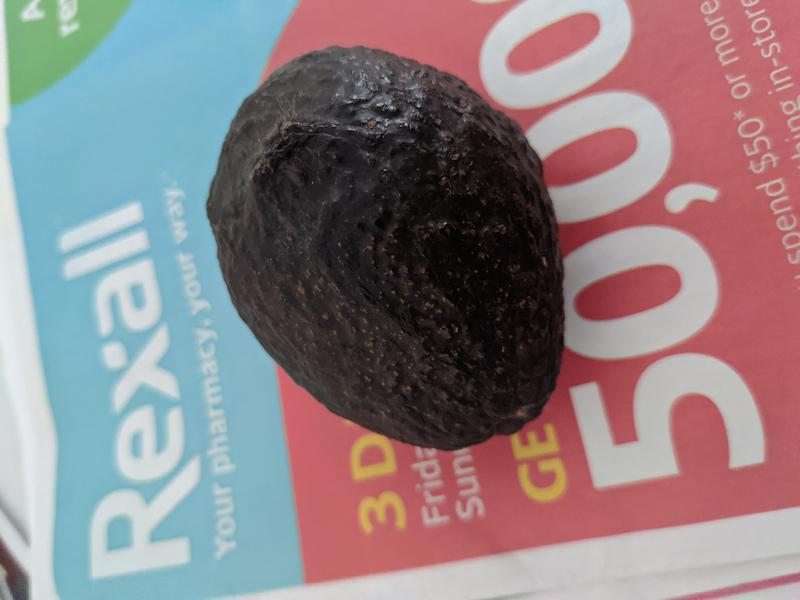avocado: (206, 45, 566, 451)
